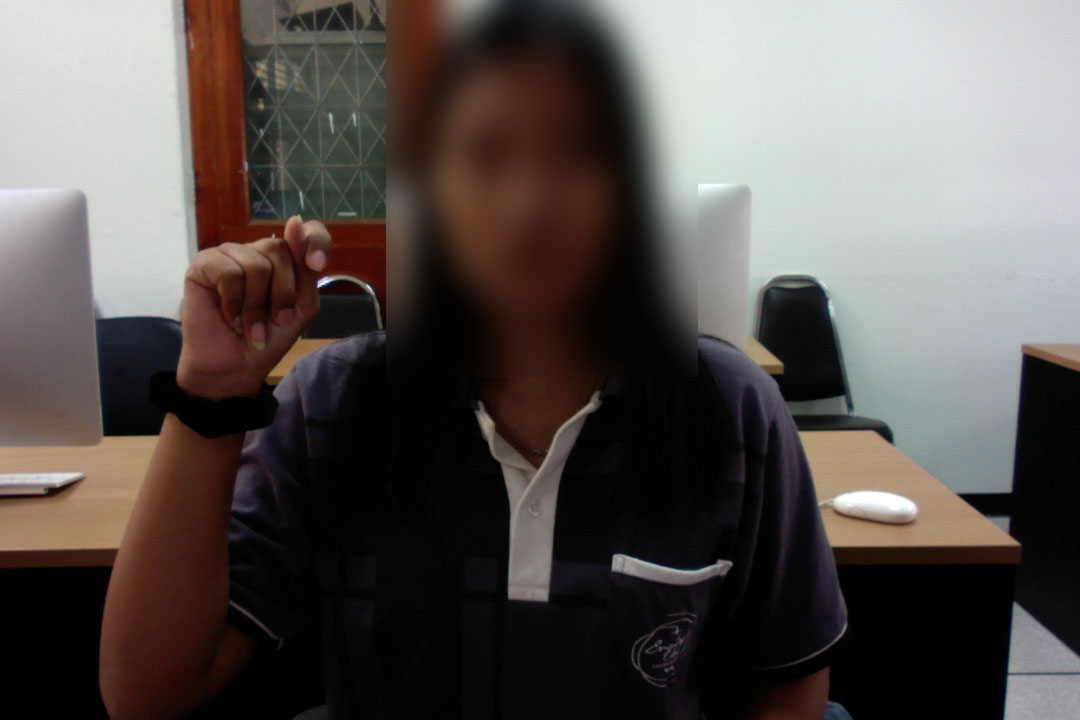tor: (172, 212, 336, 403)
